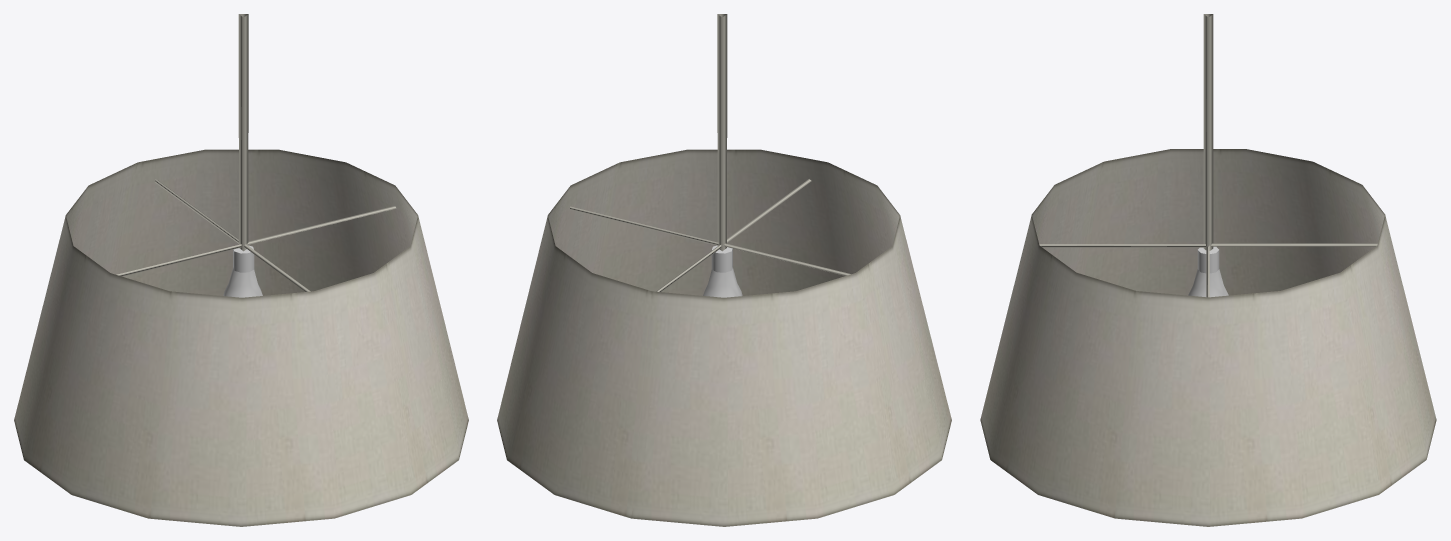
Rendered from CeilingLamp02.fbx.
3 renders of one model, left to right at view 1: azimuth 30°, elevation 25°; view 2: azimuth 150°, elevation 25°; view 3: azimuth 270°, elevation 25°, orthographic.
Parts seen in each view (by area): view 1: Tulipa7, Tulipa, Cable, Glass, Cable2; view 2: Tulipa7, Tulipa, Cable, Glass, Cable2; view 3: Tulipa7, Tulipa, Cable, Glass, Cable1, Cable3.
Boxes of the visible parts, x1,y1,x2,y2 form: Tulipa7: (14, 150, 468, 526); Tulipa: (66, 149, 417, 519); Cable: (238, 14, 248, 251); Glass: (223, 267, 262, 297); Cable2: (247, 206, 396, 244); Tulipa7: (497, 150, 951, 526); Tulipa: (548, 149, 899, 520); Cable: (717, 14, 727, 251); Glass: (703, 267, 742, 297); Cable2: (570, 206, 718, 245); Tulipa7: (980, 149, 1436, 526); Tulipa: (1032, 149, 1384, 525); Cable: (1203, 14, 1213, 250); Glass: (1188, 269, 1228, 297); Cable1: (1211, 243, 1377, 246); Cable3: (1039, 244, 1205, 247).
Size of the model in its own units: 0.7913 by 0.8 by 0.7956.
